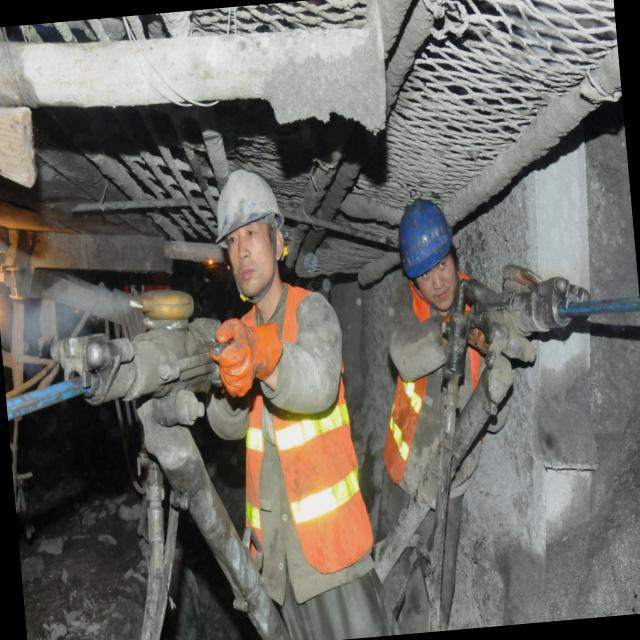helmet: (205, 164, 288, 258), (389, 188, 462, 294)
no-goggles: (220, 216, 275, 252), (408, 250, 458, 288)
vest: (208, 286, 394, 594), (370, 298, 490, 480)
